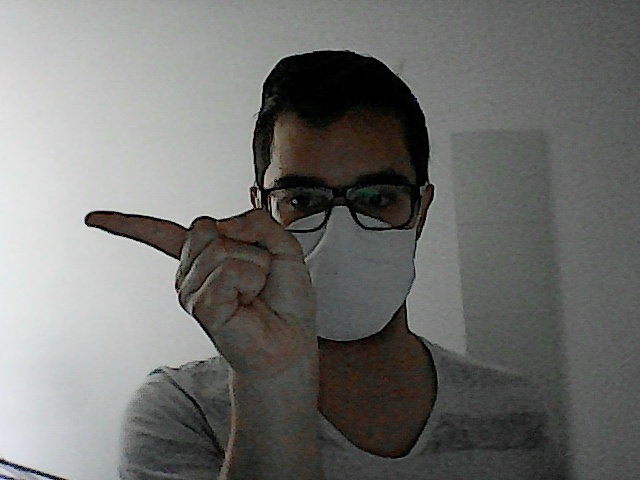right: (74, 196, 322, 369)
